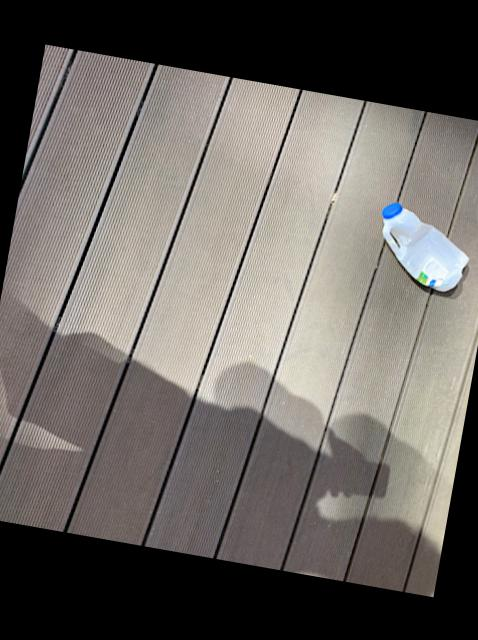plastic: (384, 203, 469, 292)
